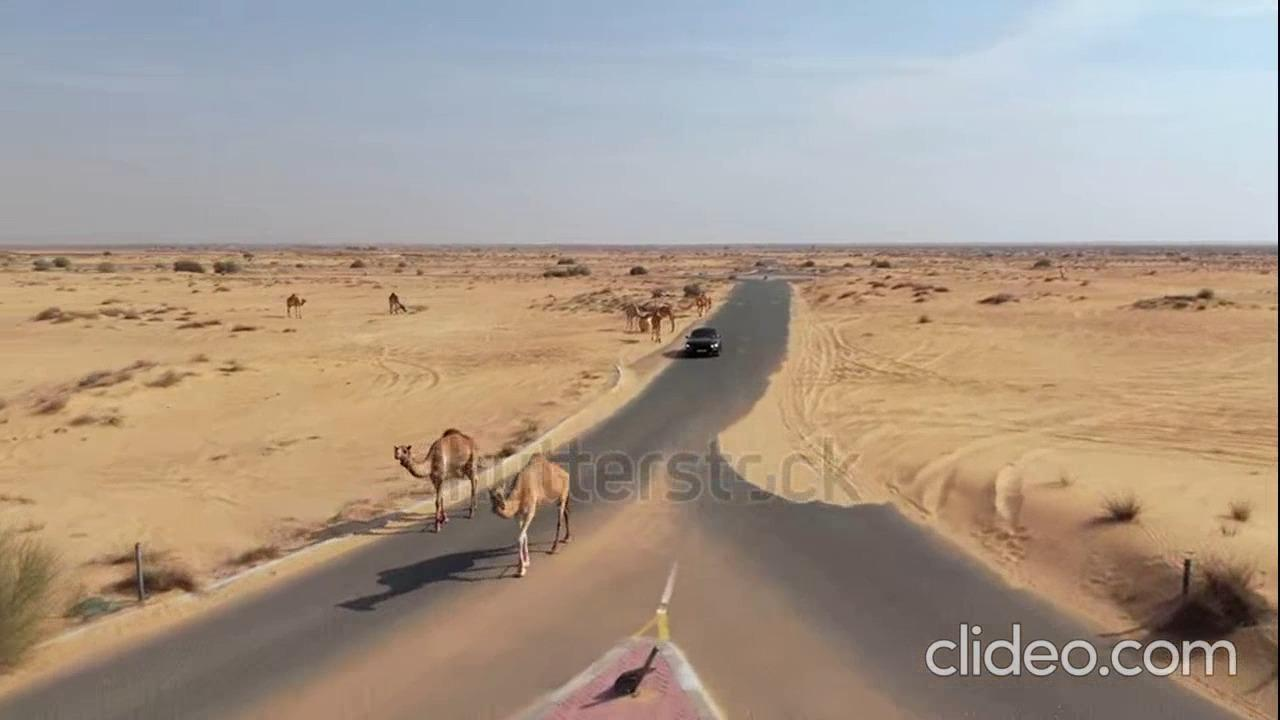camel: (481, 448, 570, 573), (390, 425, 481, 523)
